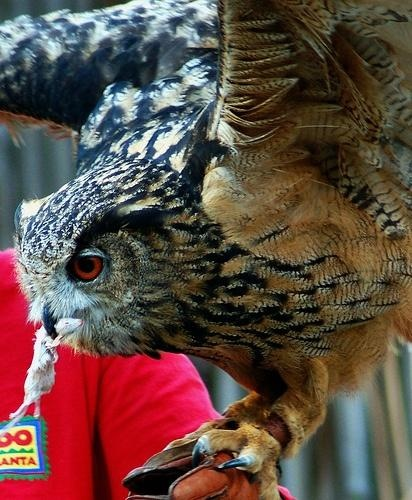bird: (1, 1, 412, 476)
